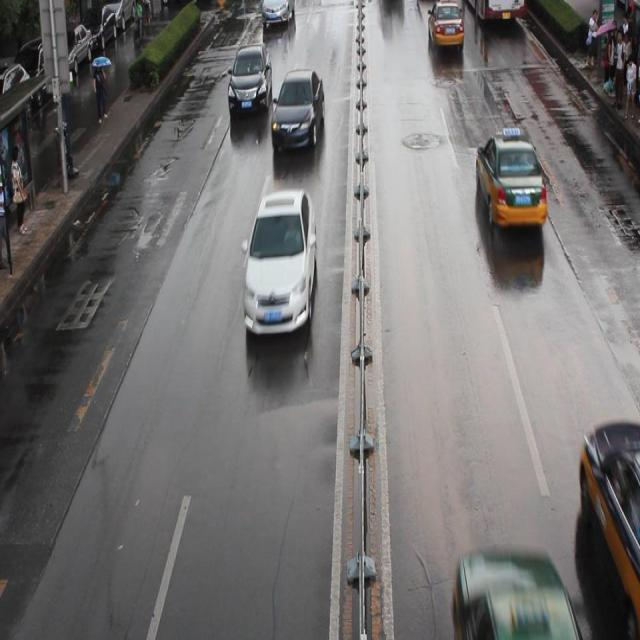car: (576, 419, 640, 640), (451, 548, 583, 640), (245, 190, 318, 332), (474, 132, 546, 228), (270, 66, 324, 150), (226, 45, 272, 115), (427, 1, 462, 45), (262, 1, 294, 24)
van: (462, 1, 524, 20)
